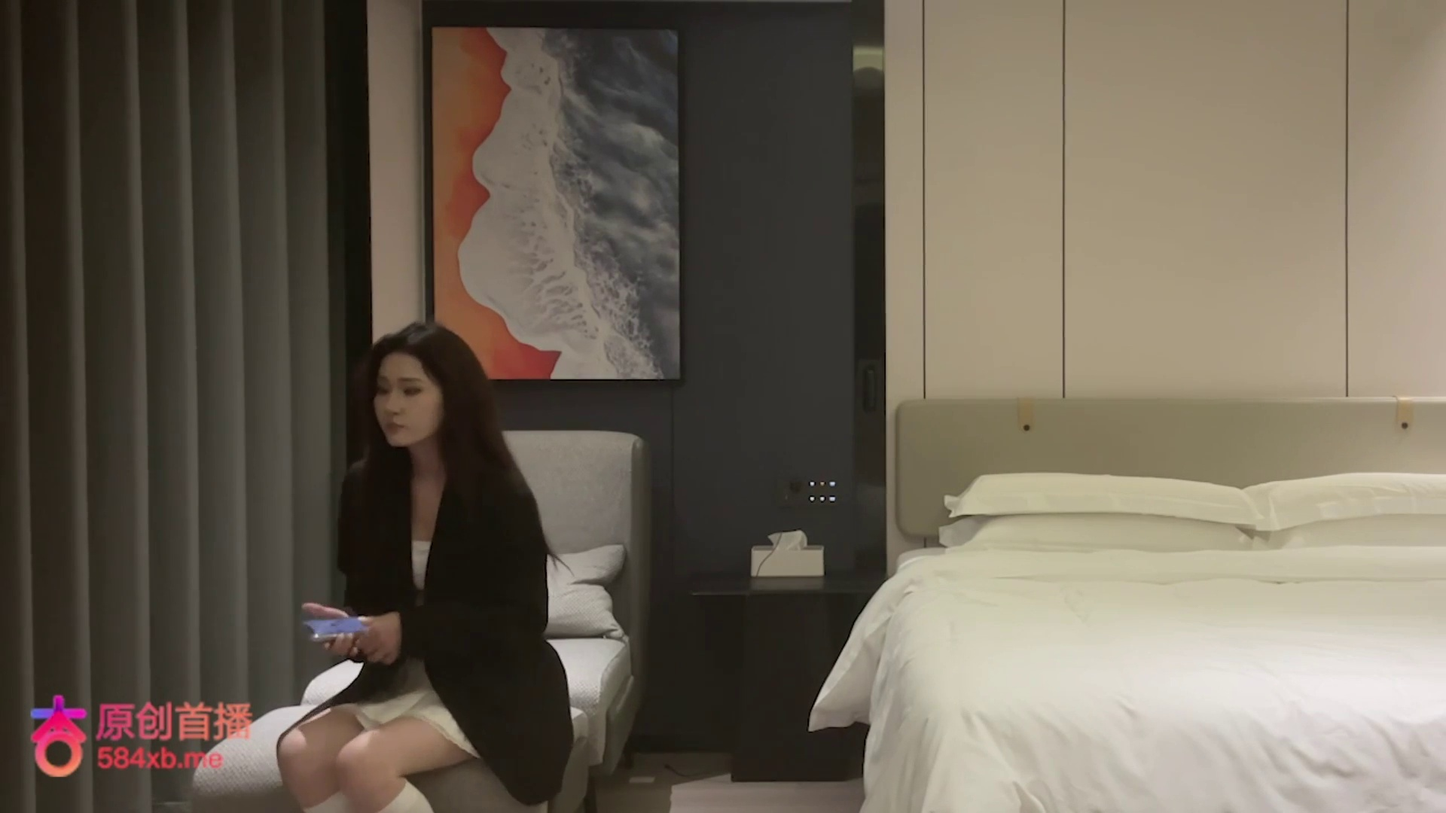sit: (276, 321, 575, 809)
